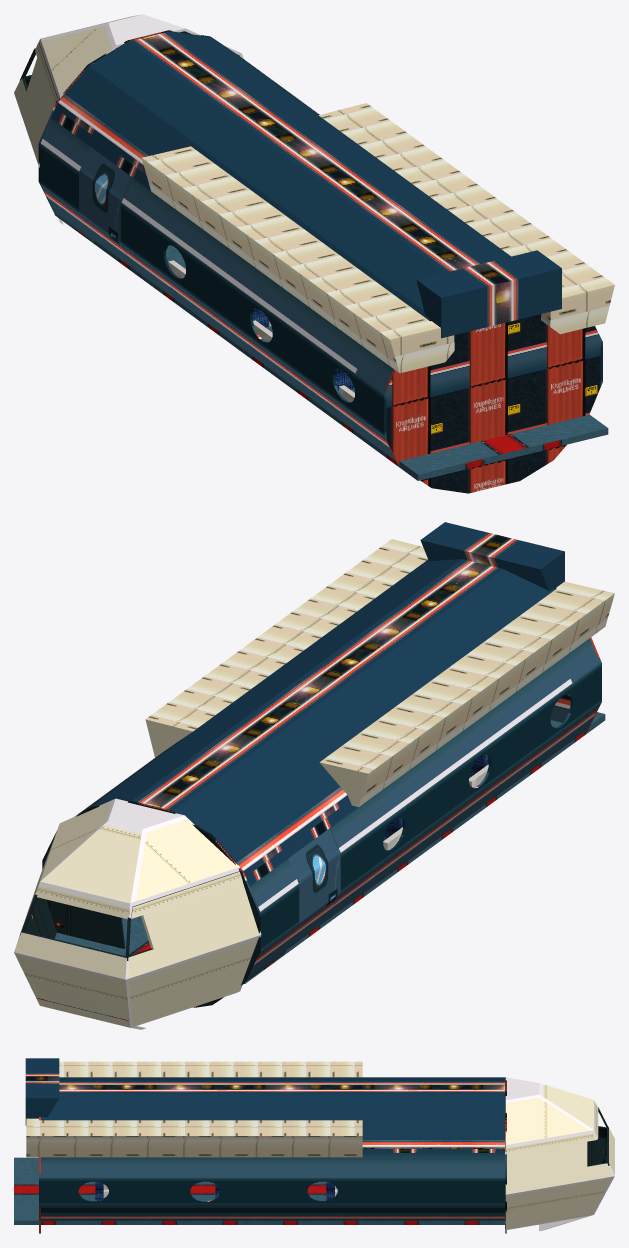
File: Range_brush.glb
3 views of the same model, one above another, from view 1: azimuth 30°, elevation 25°; view 2: azimuth 150°, elevation 25°; view 3: azimuth 270°, elevation 25° (orthographic). The views are drawn at different scales.
Visible parts, largest first — view 1: Range; view 2: Range; view 3: Range.
Part boxes in pixels (bbox=[...]): Range: bbox=[14, 14, 614, 493]; Range: bbox=[14, 522, 614, 1029]; Range: bbox=[14, 1058, 614, 1233].
Bounding box in the file's own units: 376 × 338 × 1272.
15 materials, 15 textured.
